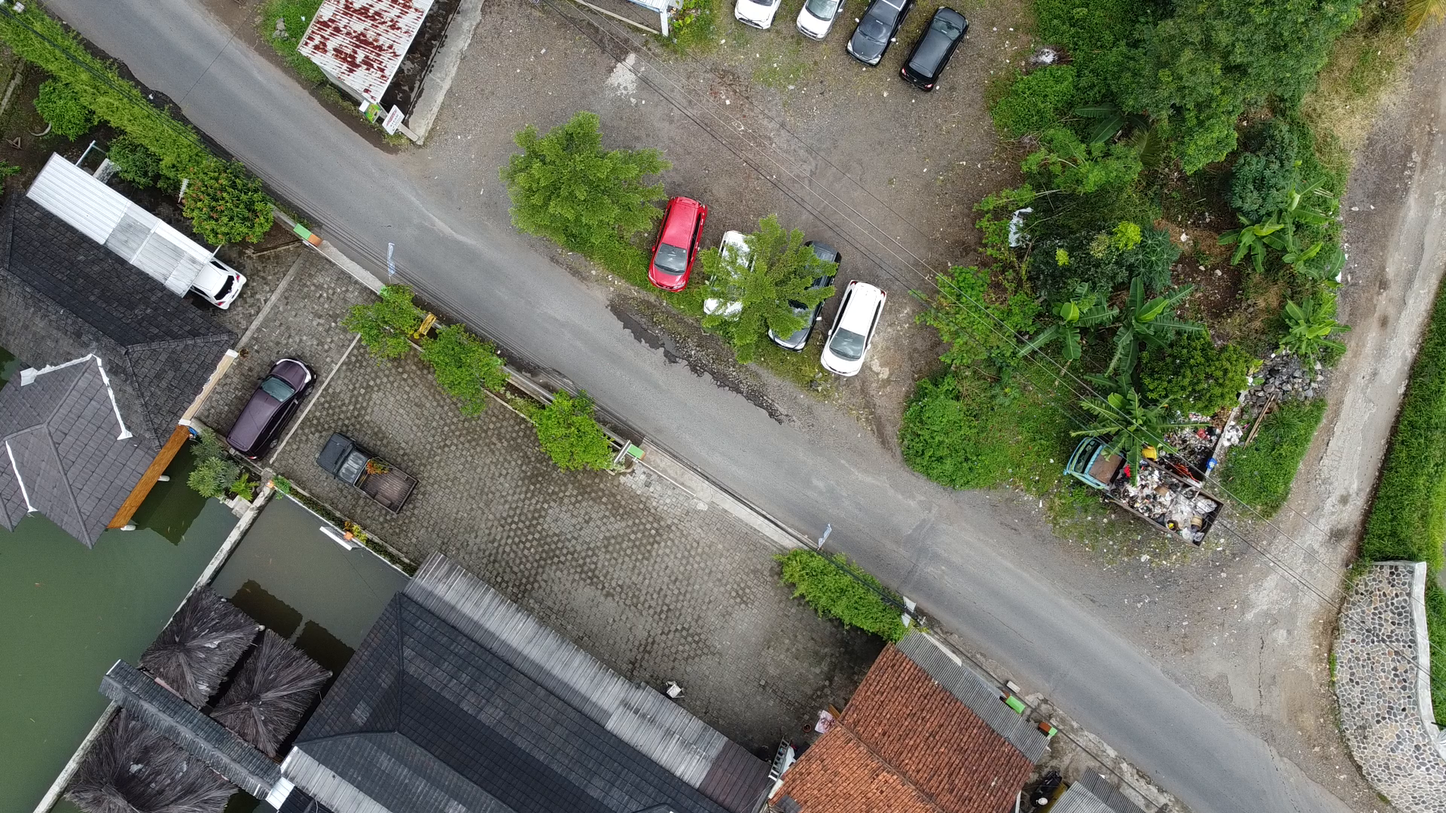mobil: (311, 419, 431, 523), (222, 346, 325, 460), (817, 269, 891, 381), (773, 230, 839, 355), (647, 188, 709, 299), (703, 221, 766, 329), (902, 6, 972, 93), (184, 247, 254, 327), (845, 1, 914, 73)
